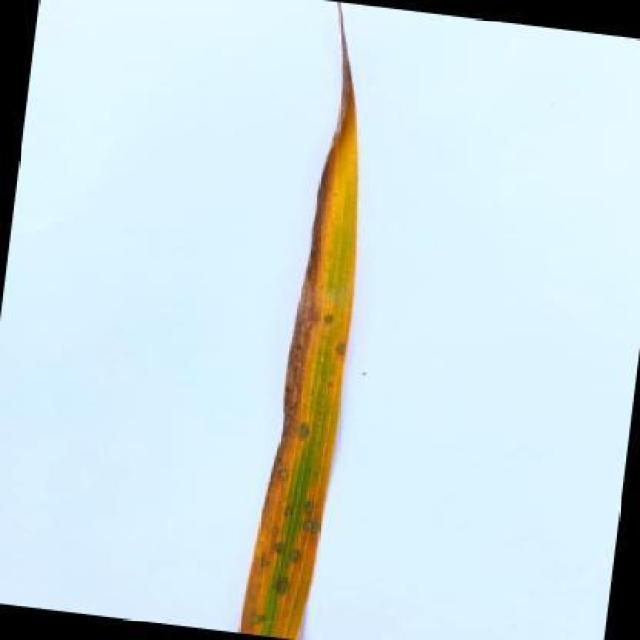Rice False Smut: (229, 0, 394, 640)
